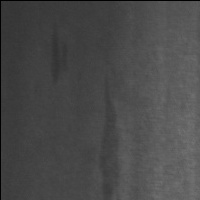inclusion: (92, 71, 126, 200), (43, 20, 74, 92)
